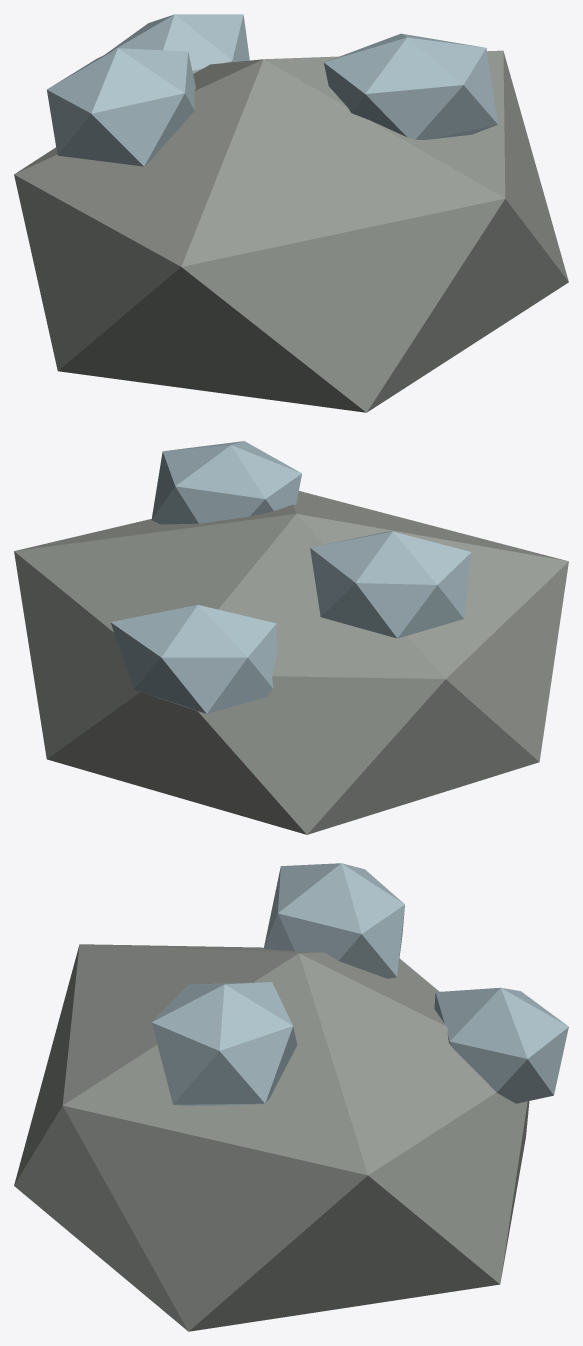
The model's file is iron-ore.glb.
The picture shows the model from 3 angles, top to bottom: view 1: azimuth 30°, elevation 25°; view 2: azimuth 150°, elevation 25°; view 3: azimuth 270°, elevation 25°; orthographic projection. The views are drawn at different scales.
Parts seen in each view (by area): view 1: iron-ore / Gray stone, iron-ore / Iron; view 2: iron-ore / Gray stone, iron-ore / Iron; view 3: iron-ore / Gray stone, iron-ore / Iron.
Part boxes in pixels (<box>): iron-ore / Gray stone: <box>14,50,568,412</box>; iron-ore / Iron: <box>47,14,497,166</box>; iron-ore / Gray stone: <box>14,491,568,834</box>; iron-ore / Iron: <box>110,441,471,713</box>; iron-ore / Gray stone: <box>14,944,529,1331</box>; iron-ore / Iron: <box>152,863,568,1106</box>.
Size of the model in its own units: 0.2842 by 0.1822 by 0.2612.
